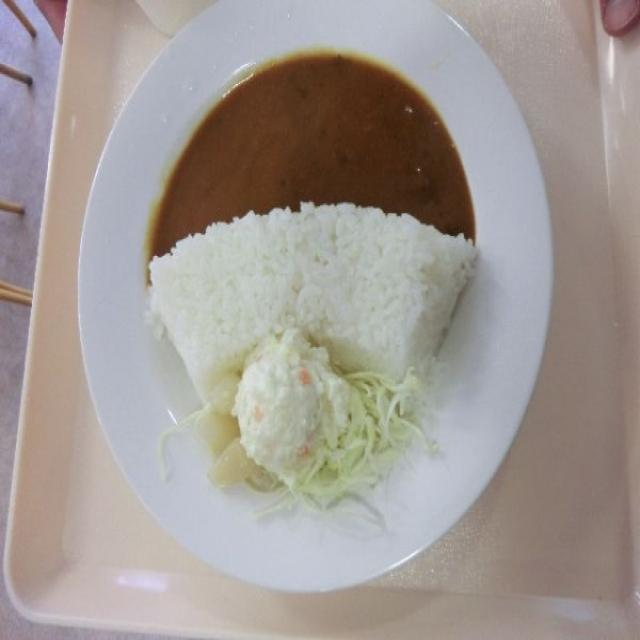Beef Curry: (132, 50, 476, 225)
